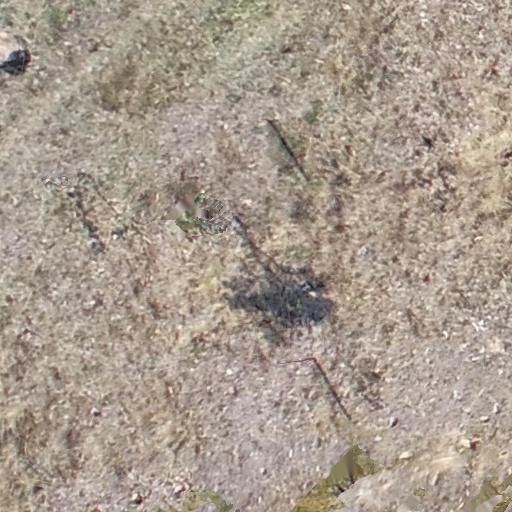stone: (0, 31, 29, 75), (398, 451, 416, 461), (129, 492, 143, 503), (388, 416, 398, 428), (479, 414, 491, 423), (90, 406, 100, 416), (174, 486, 184, 496), (229, 385, 237, 395), (260, 466, 268, 475)
